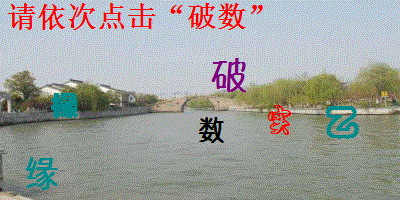text: (210, 57, 248, 93), (323, 105, 360, 140), (25, 155, 60, 191), (198, 115, 226, 146), (50, 91, 79, 120), (267, 104, 292, 137)
